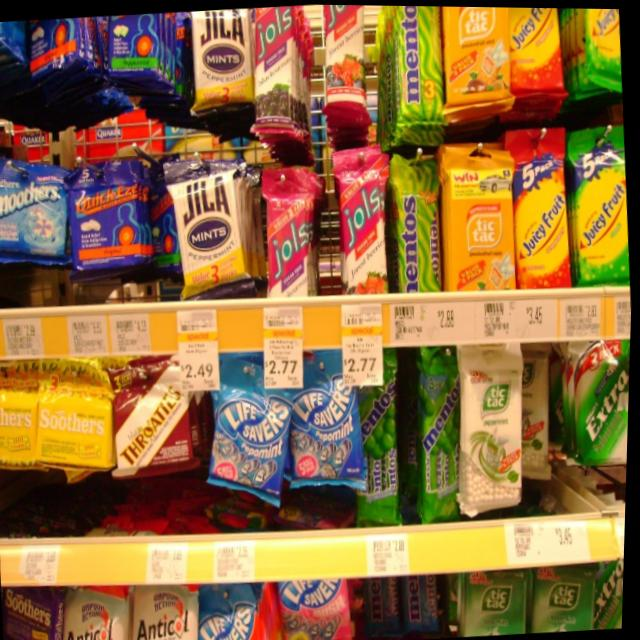q268: (451, 334, 536, 516)
